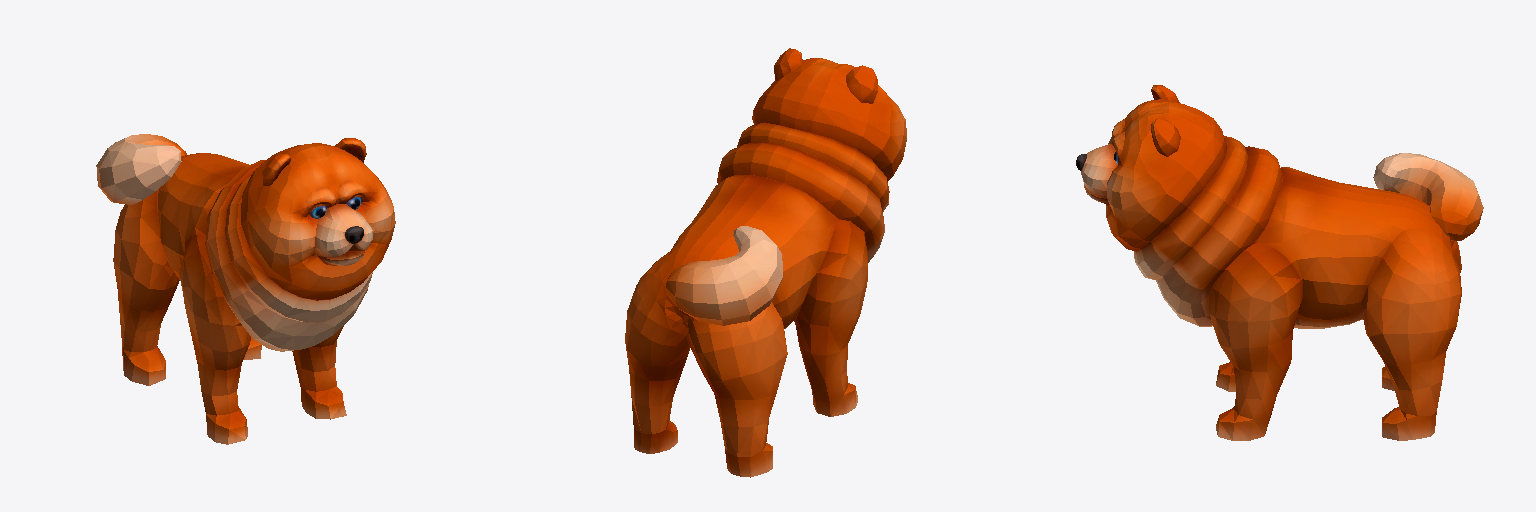
The picture shows the model from 3 angles: view 1: azimuth 30°, elevation 25°; view 2: azimuth 150°, elevation 25°; view 3: azimuth 270°, elevation 25°; orthographic projection.
Visible parts, largest first — view 1: Group24122; view 2: Group24122; view 3: Group24122.
Boxes of the visible parts, <box> form: Group24122: <box>96,134,395,444</box>; Group24122: <box>625,48,906,477</box>; Group24122: <box>1076,85,1483,440</box>.
Bounding box in the file's own units: 1.43 × 2.65 × 3.18.
Materials: 1 (1 with a texture image).